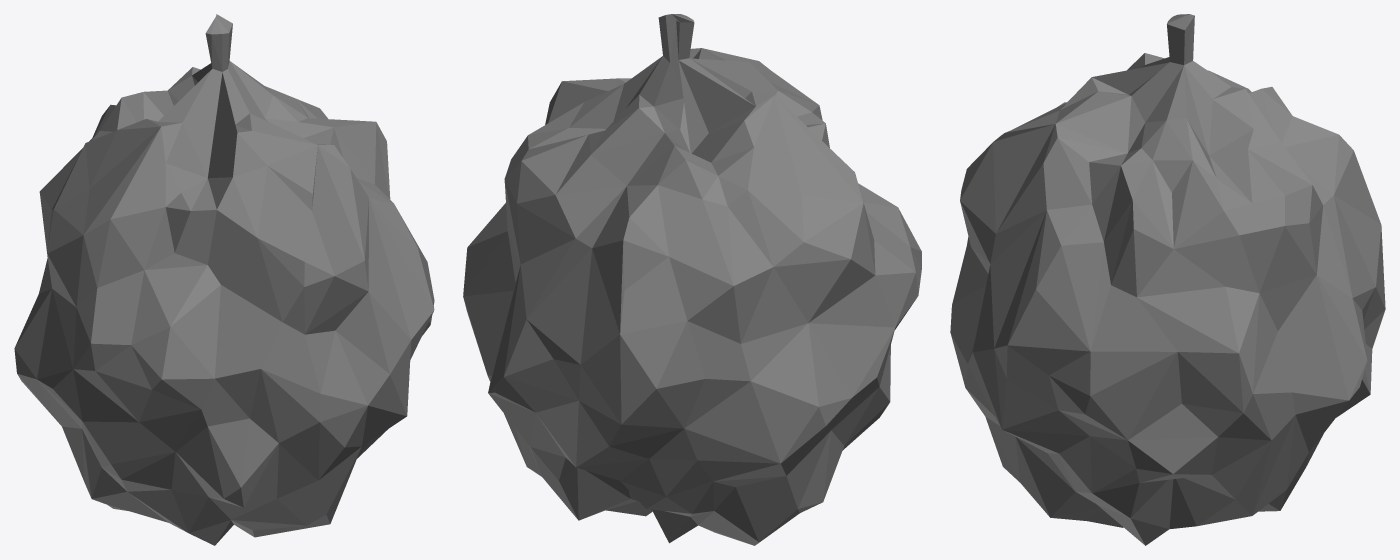
File: CleanTrashBag.fbx
3 renders of one model, left to right at view 1: azimuth 30°, elevation 25°; view 2: azimuth 150°, elevation 25°; view 3: azimuth 270°, elevation 25°, orthographic. The views are drawn at different scales.
Parts seen in each view (by area): view 1: CleanTrashBag; view 2: CleanTrashBag; view 3: CleanTrashBag.
Part boxes in pixels (left/top/right/bottom): CleanTrashBag: left=14, top=14, right=434, bottom=545; CleanTrashBag: left=463, top=14, right=921, bottom=545; CleanTrashBag: left=950, top=14, right=1385, bottom=545.
Size of the model in its own units: 51.33 by 69.9 by 53.76.
